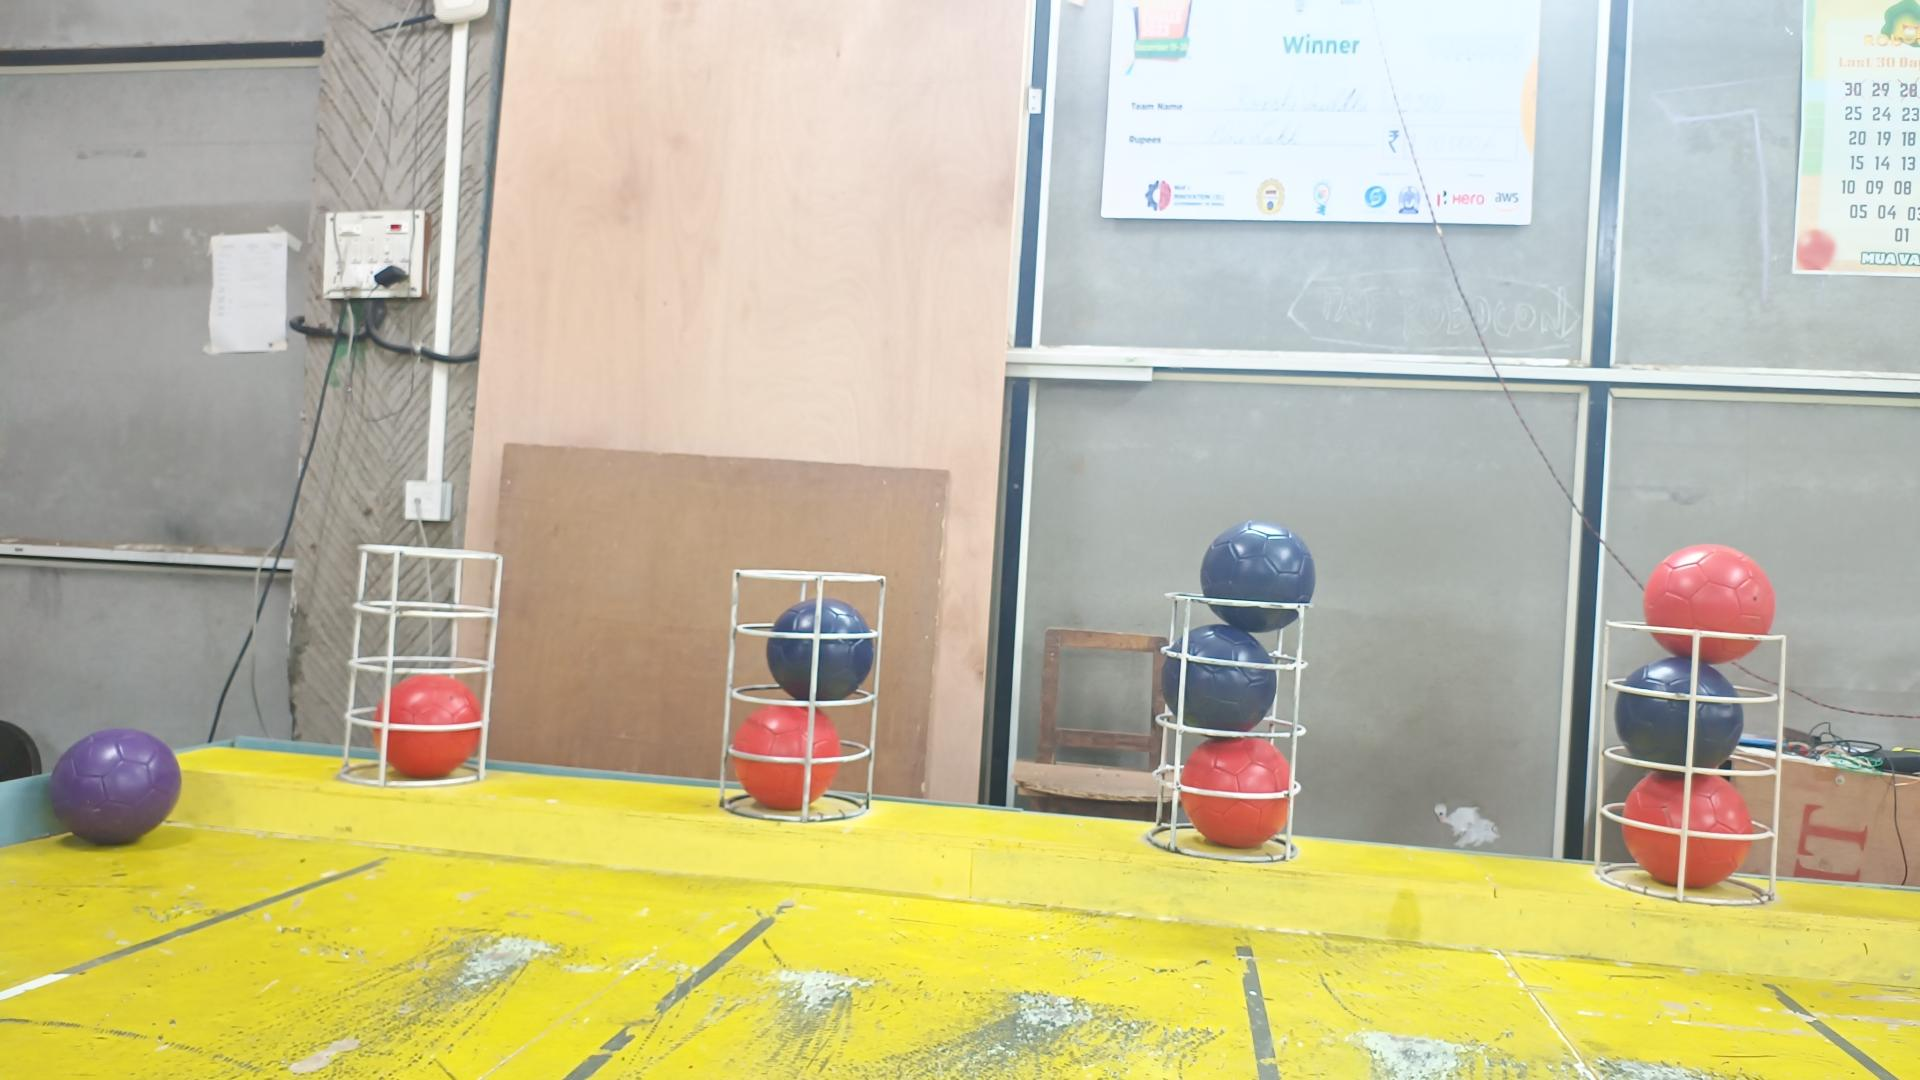dhoka: (1615, 657, 1746, 770), (1200, 518, 1316, 632), (1163, 621, 1279, 729), (765, 597, 874, 702)
laale: (1643, 542, 1774, 662), (1623, 773, 1755, 890), (1183, 736, 1299, 845), (735, 708, 844, 814), (375, 673, 483, 777)
